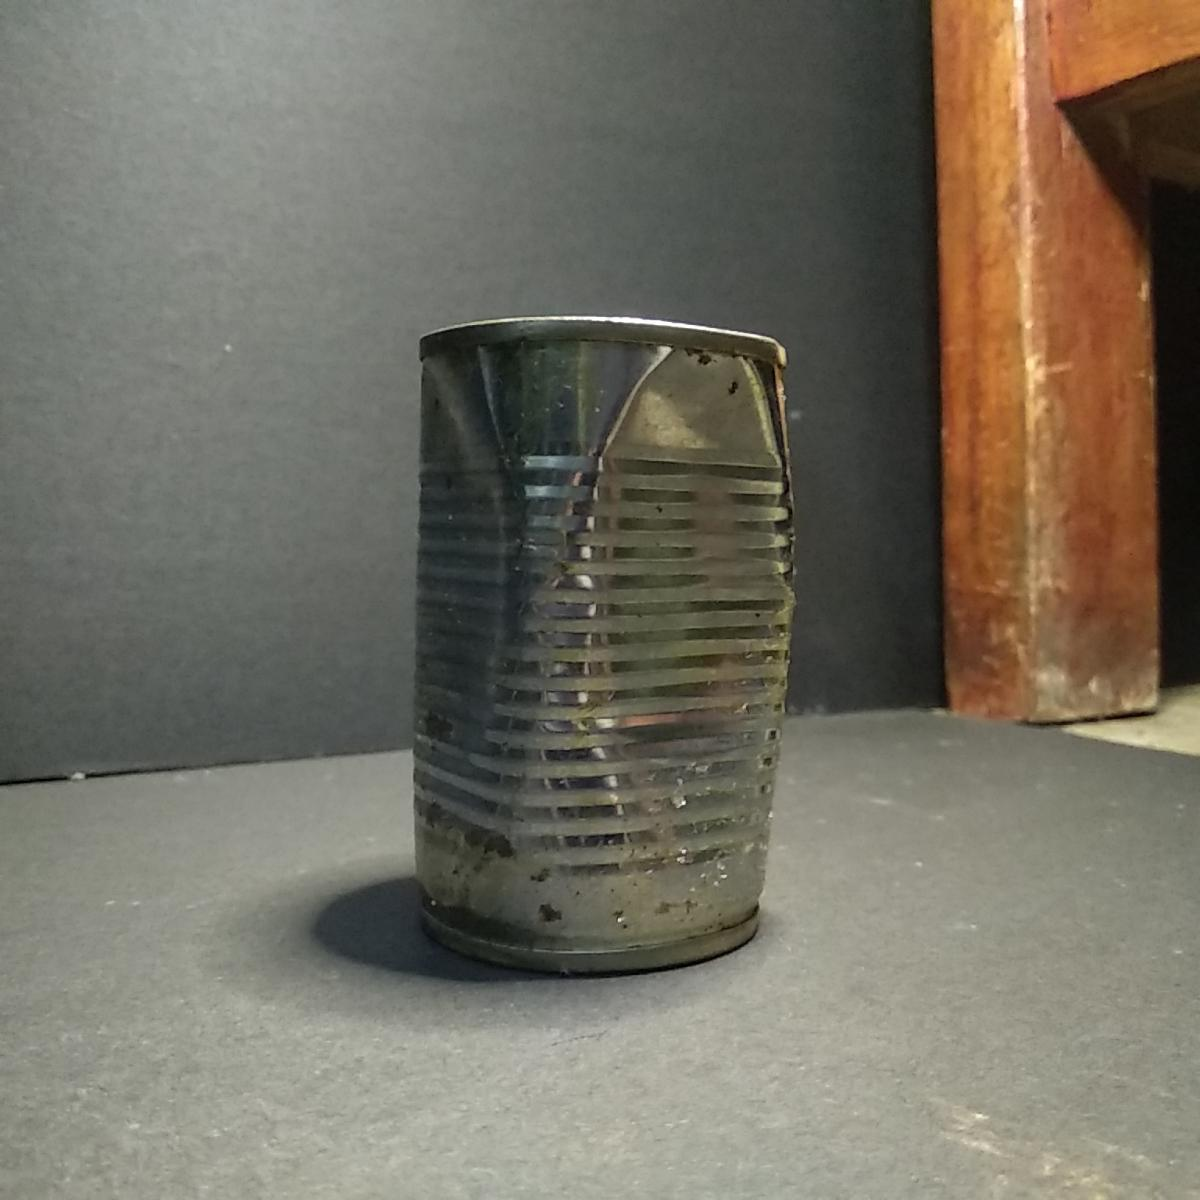Minor Defect: (407, 303, 804, 987)
